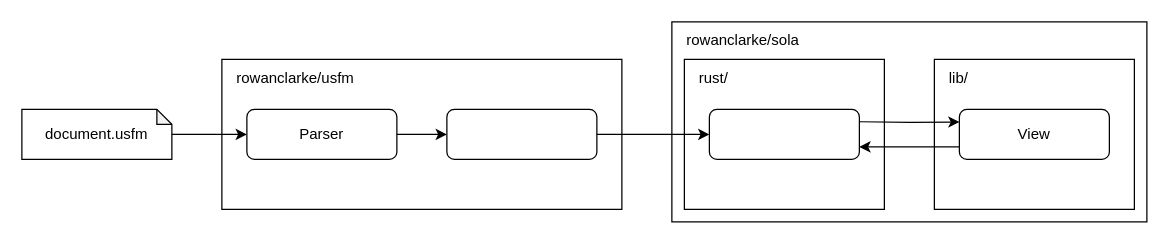
The diagram is 1169 pixels wide and 244 high, and some of its shapes have lost their labels. Here are the shapes that lost their labels. From the top down, the centre of each, then its label:
At (x=521, y=133): "Serializer".
At (x=783, y=133): "Renderer".
